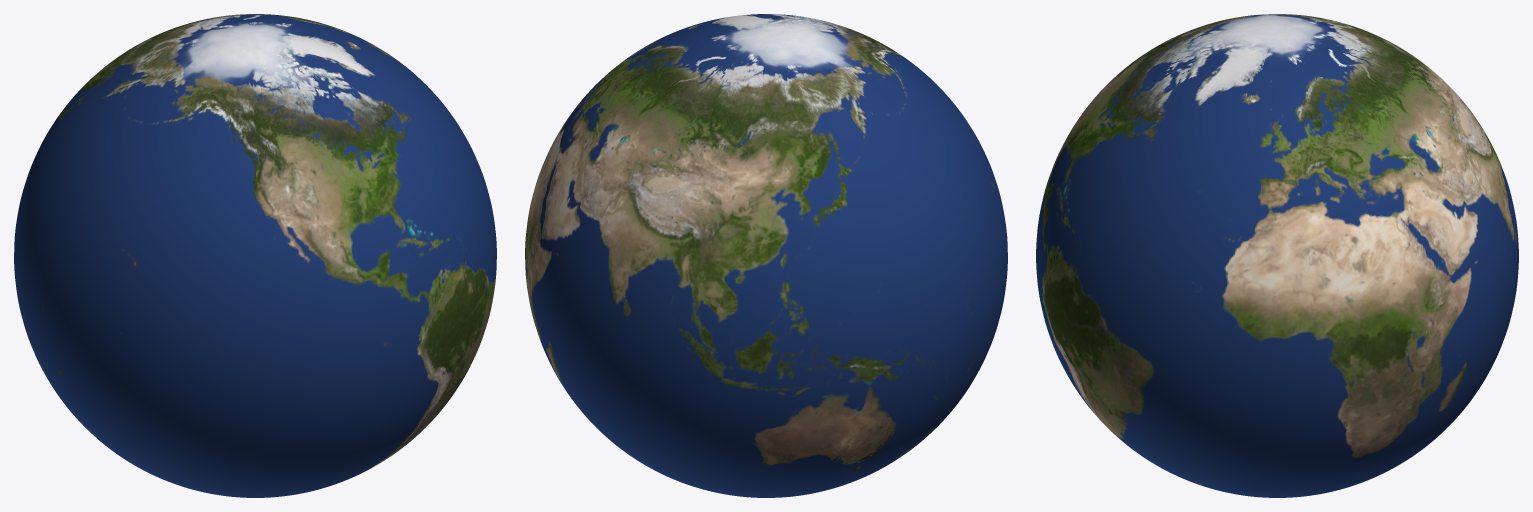
File: Earth.glb
3 views of the same model, side by side, from view 1: azimuth 30°, elevation 25°; view 2: azimuth 150°, elevation 25°; view 3: azimuth 270°, elevation 25° (orthographic).
Visible parts, largest first — view 1: Earth; view 2: Earth; view 3: Earth.
Part boxes in pixels (x1,y1,x2,y2): Earth: (14,14,496,497); Earth: (525,14,1007,497); Earth: (1036,14,1518,497).
Bounding box in the file's own units: 1.99 × 2 × 1.99.
1 material, 1 textured.
